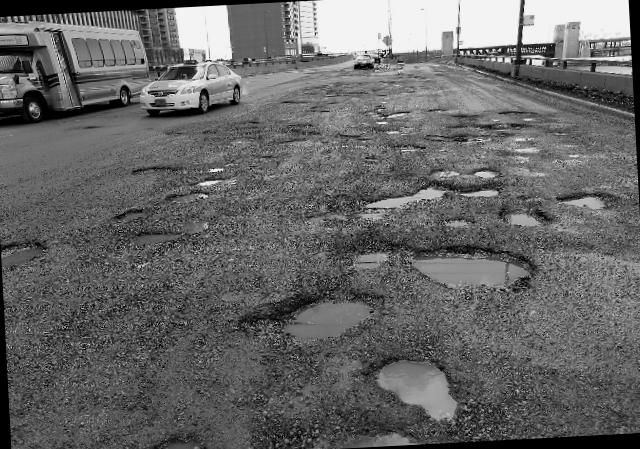Pothole: (340, 228, 542, 294), (230, 278, 384, 362), (343, 168, 501, 228), (368, 352, 473, 426), (158, 163, 222, 213), (558, 182, 628, 215), (132, 426, 230, 449), (497, 196, 555, 234), (438, 101, 484, 148), (125, 152, 187, 183), (1, 234, 52, 265), (102, 204, 153, 230), (135, 234, 189, 254)
